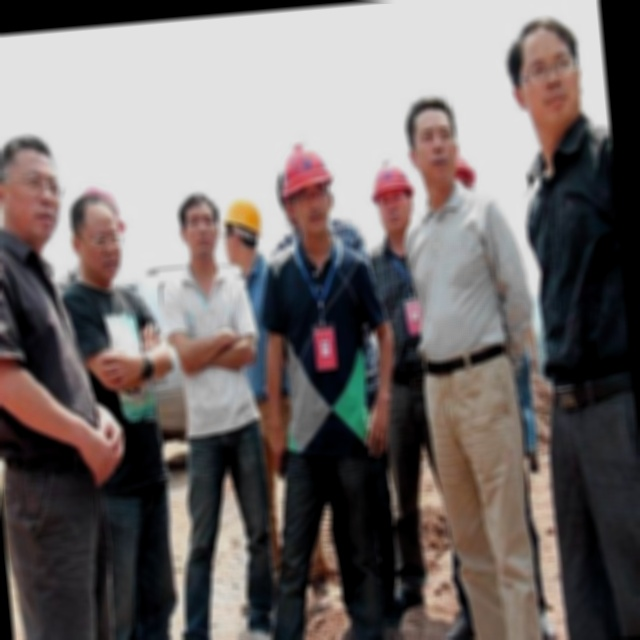Con_Casco: (276, 140, 339, 238)
Sin_Casco_Mascarrilla: (175, 190, 223, 261)
